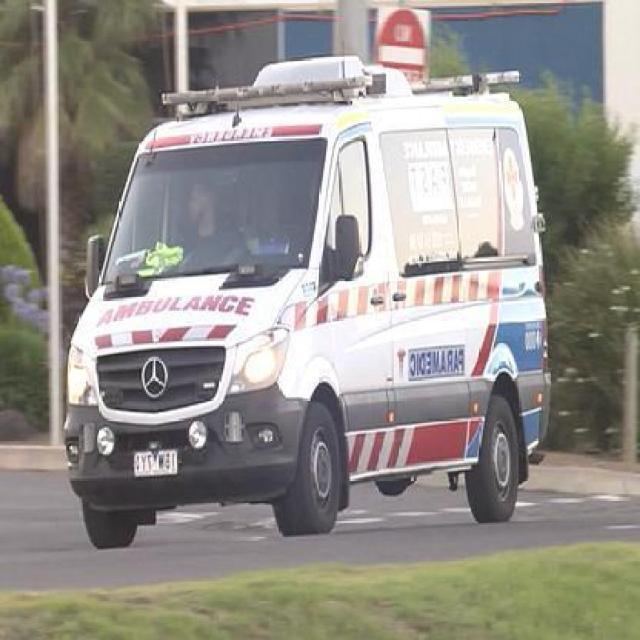emergency: (61, 56, 553, 552)
